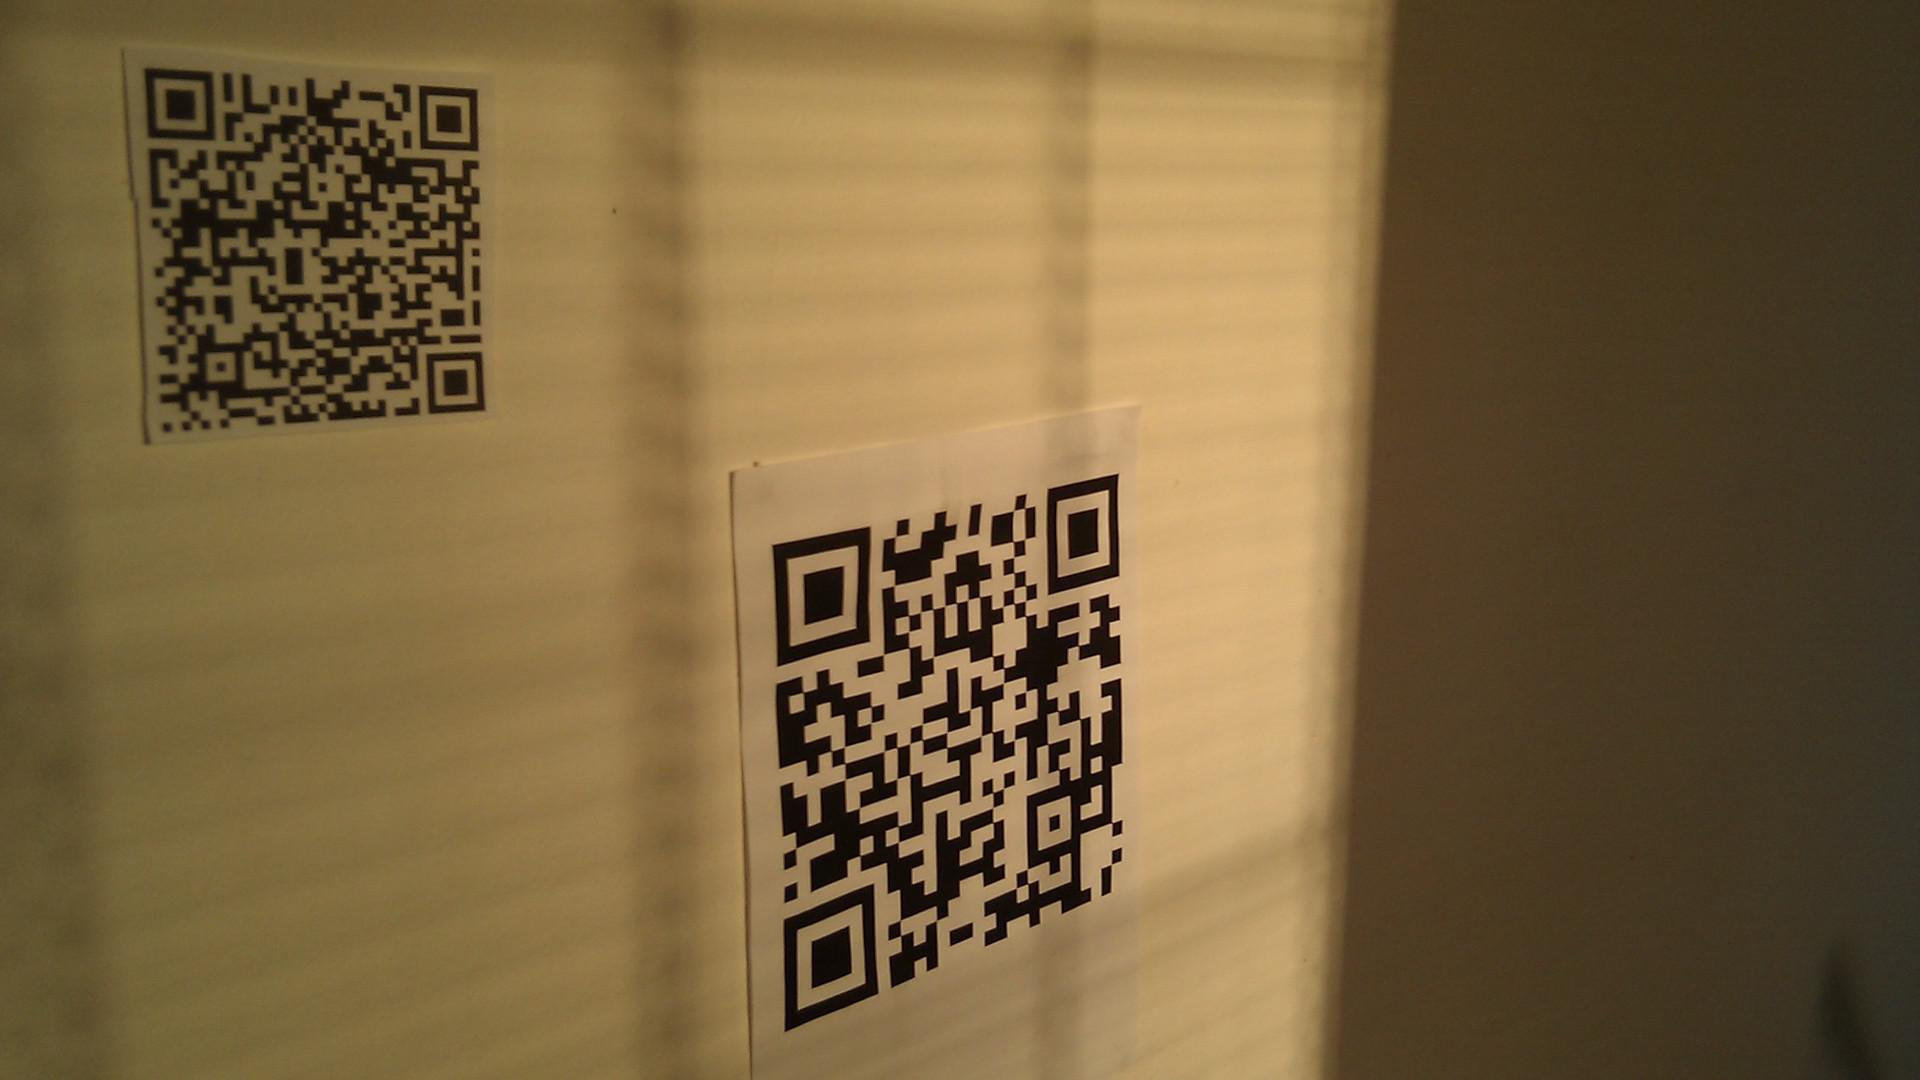Finder pattern: (781, 885, 882, 1038), (766, 524, 876, 665), (1046, 467, 1124, 600), (137, 62, 222, 142), (421, 349, 495, 413), (419, 82, 483, 153)
